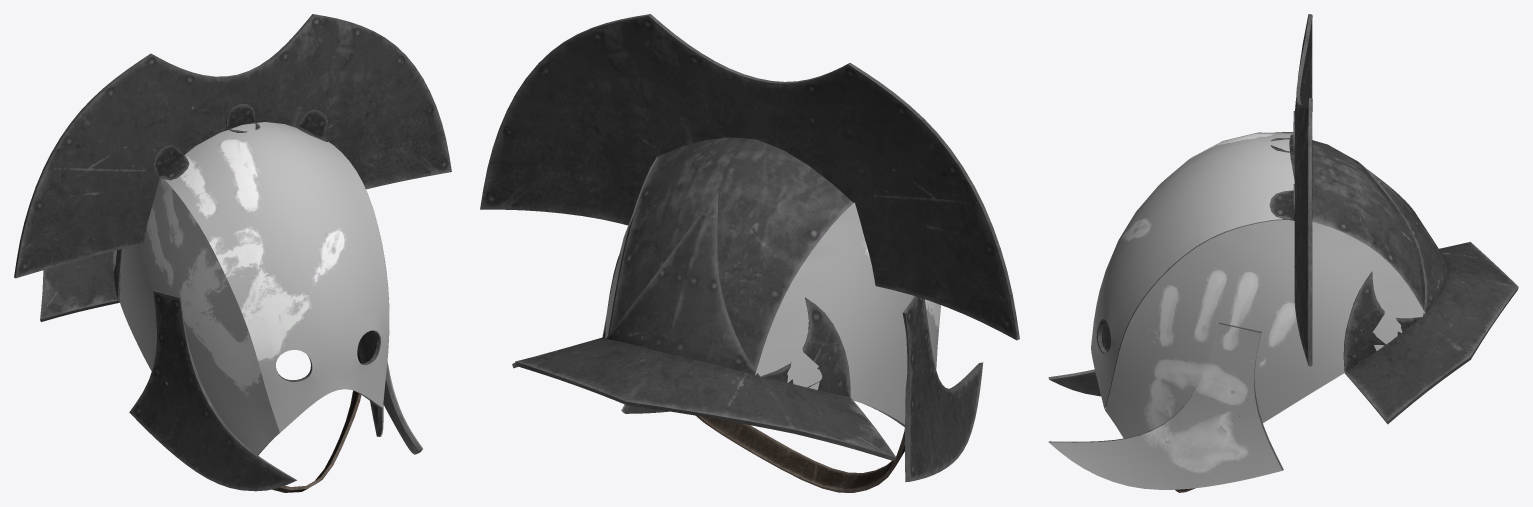
The model's file is sk_uruk_hai_helmet_captain_a3.fbx.
The picture shows the model from 3 angles, left to right: view 1: azimuth 30°, elevation 25°; view 2: azimuth 150°, elevation 25°; view 3: azimuth 270°, elevation 25°; orthographic projection. The views are drawn at different scales.
Parts seen in each view (by area): view 1: sk_uruk_hai_helmet_captain_a3.0, sk_uruk_hai_helmet_captain_a3.1, sk_uruk_hai_helmet_captain_a3.2; view 2: sk_uruk_hai_helmet_captain_a3.0, sk_uruk_hai_helmet_captain_a3.1, sk_uruk_hai_helmet_captain_a3.2; view 3: sk_uruk_hai_helmet_captain_a3.1, sk_uruk_hai_helmet_captain_a3.0.
Boxes of the visible parts, x1=… form: sk_uruk_hai_helmet_captain_a3.0: x1=14, y1=14, x2=451, y2=491; sk_uruk_hai_helmet_captain_a3.1: x1=113, y1=122, x2=422, y2=454; sk_uruk_hai_helmet_captain_a3.2: x1=164, y1=349, x2=361, y2=492; sk_uruk_hai_helmet_captain_a3.0: x1=480, y1=14, x2=1019, y2=482; sk_uruk_hai_helmet_captain_a3.1: x1=602, y1=155, x2=940, y2=424; sk_uruk_hai_helmet_captain_a3.2: x1=696, y1=404, x2=919, y2=492; sk_uruk_hai_helmet_captain_a3.1: x1=1048, y1=132, x2=1425, y2=489; sk_uruk_hai_helmet_captain_a3.0: x1=1048, y1=14, x2=1518, y2=470.
Size of the model in its own units: 0.4049 by 0.3627 by 0.3656.
Materials: 3 (3 with a texture image).
